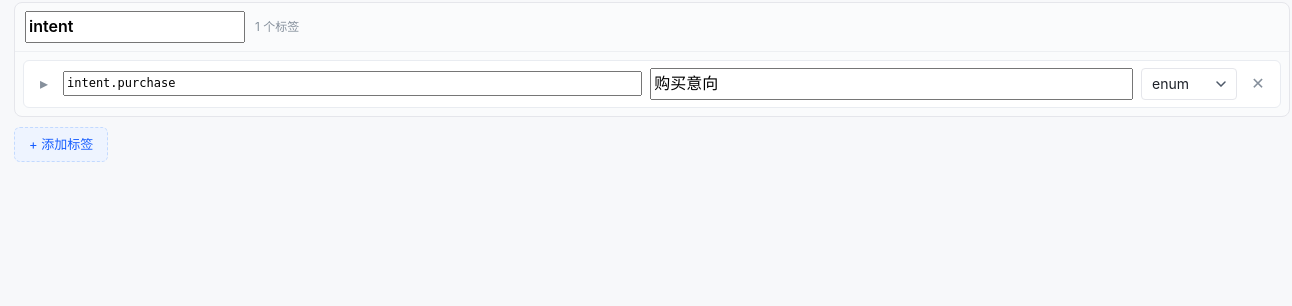
Test: TagDefinitionTree › adds and removes tags
Click the button "+ 添加标签" at (61,144), box [14,127,108,162]
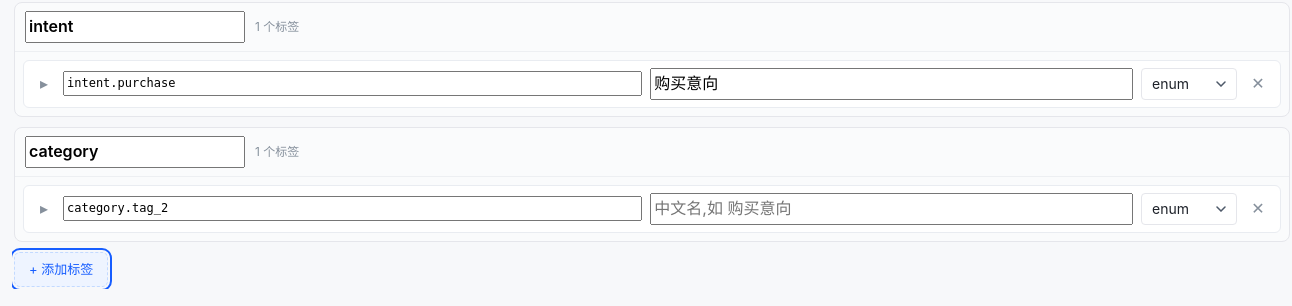
Expected: the number of buttons named "删除标签" is 2
Click the button named "删除标签 intent.purchase" at (1258,84), box [1245,70,1271,98]
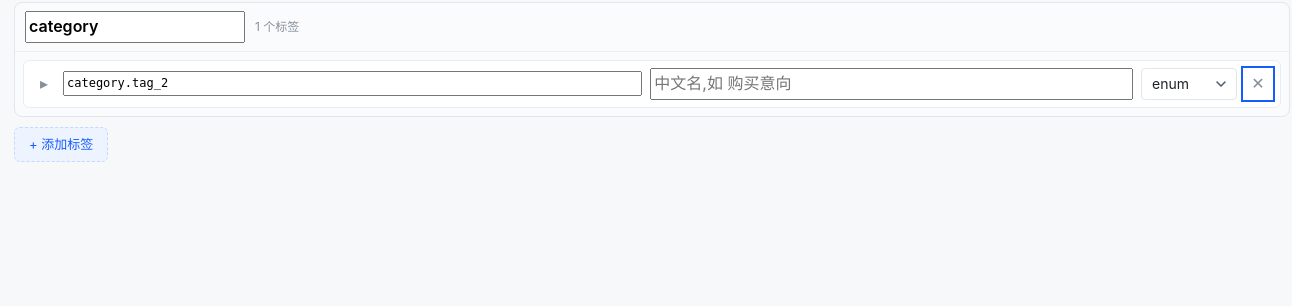
Expected: the number of buttons named "删除标签" is 1, [1245,70,1271,98]
